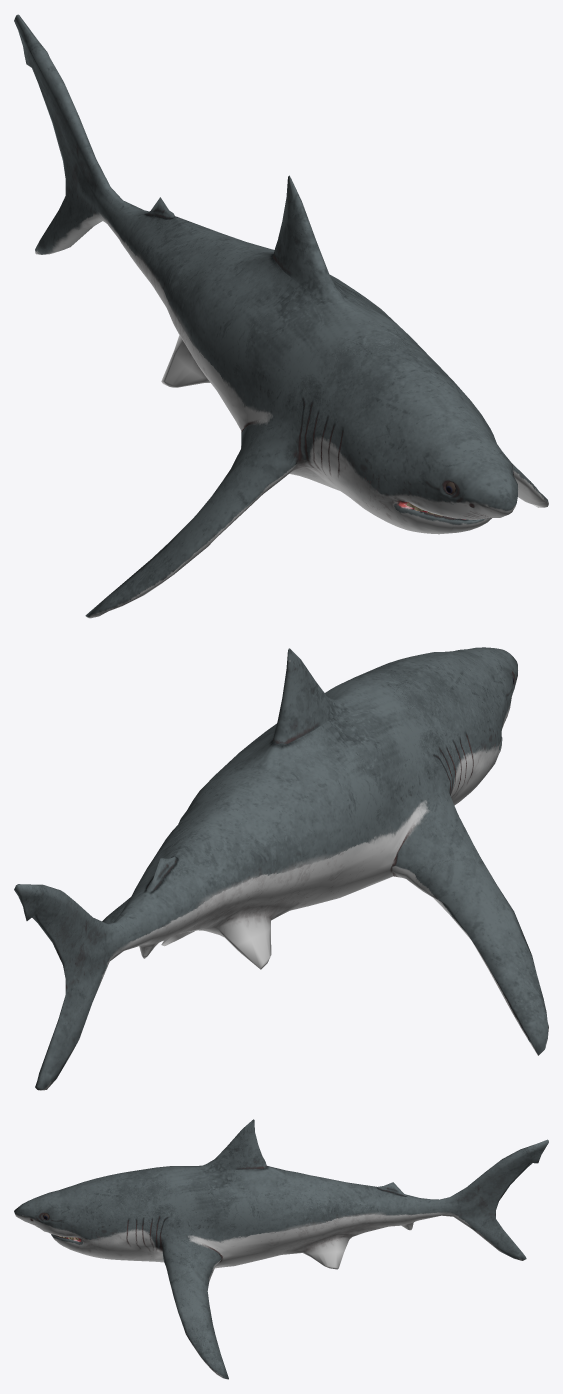
Rendered from Shark2.obj.
3 views of the same model, one above another, from view 1: azimuth 30°, elevation 25°; view 2: azimuth 150°, elevation 25°; view 3: azimuth 270°, elevation 25° (orthographic). The views are drawn at different scales.
Visible parts, largest first — view 1: RetopoFlow_001; view 2: RetopoFlow_001; view 3: RetopoFlow_001.
Part boxes in pixels (left/top/right/bottom): RetopoFlow_001: left=14, top=14, right=548, bottom=618; RetopoFlow_001: left=14, top=647, right=548, bottom=1090; RetopoFlow_001: left=14, top=1119, right=548, bottom=1379.
Size of the model in its own units: 160 by 124 by 299.
Materials: 1 (1 with a texture image).
